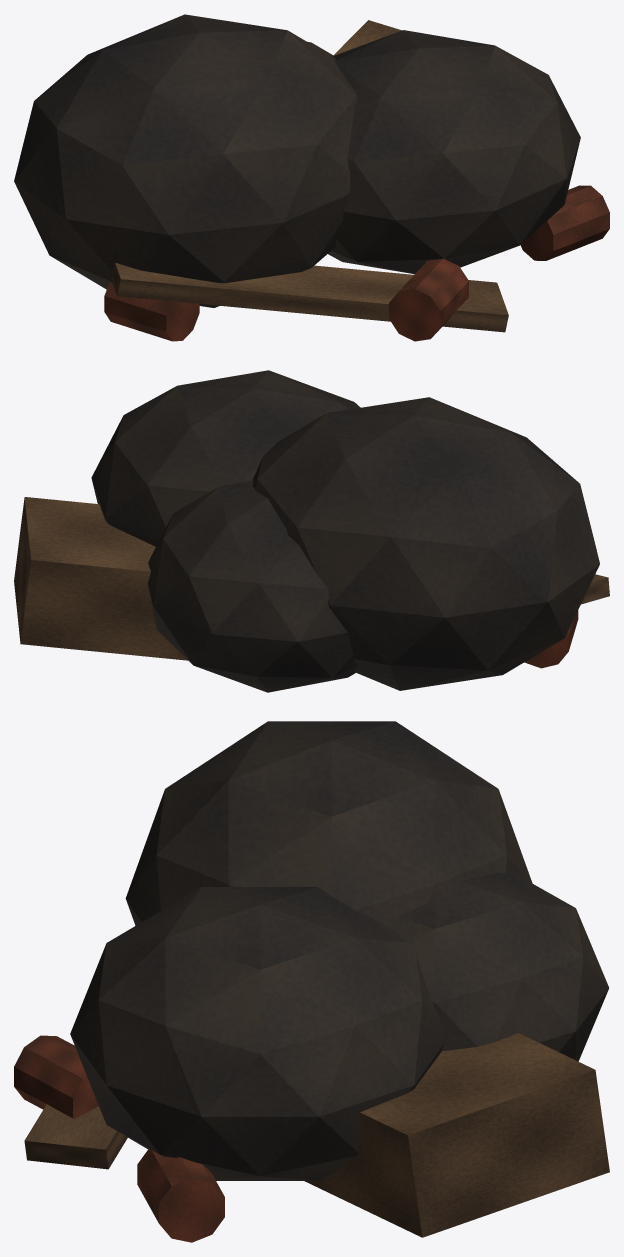
Rendered from trash_pile_clutter_1k.gltf.
The picture shows the model from 3 angles, top to bottom: view 1: azimuth 30°, elevation 25°; view 2: azimuth 150°, elevation 25°; view 3: azimuth 270°, elevation 25°; orthographic projection. The views are drawn at different scales.
Visible parts, largest first — view 1: trash_pile_clutter; view 2: trash_pile_clutter; view 3: trash_pile_clutter.
Part boxes in pixels (<box>): trash_pile_clutter: <box>14,14,609,341</box>; trash_pile_clutter: <box>14,370,609,692</box>; trash_pile_clutter: <box>14,721,609,1242</box>.
Bounding box in the file's own units: 0.9359 × 0.44 × 0.7516.
3 materials, 3 textured.
